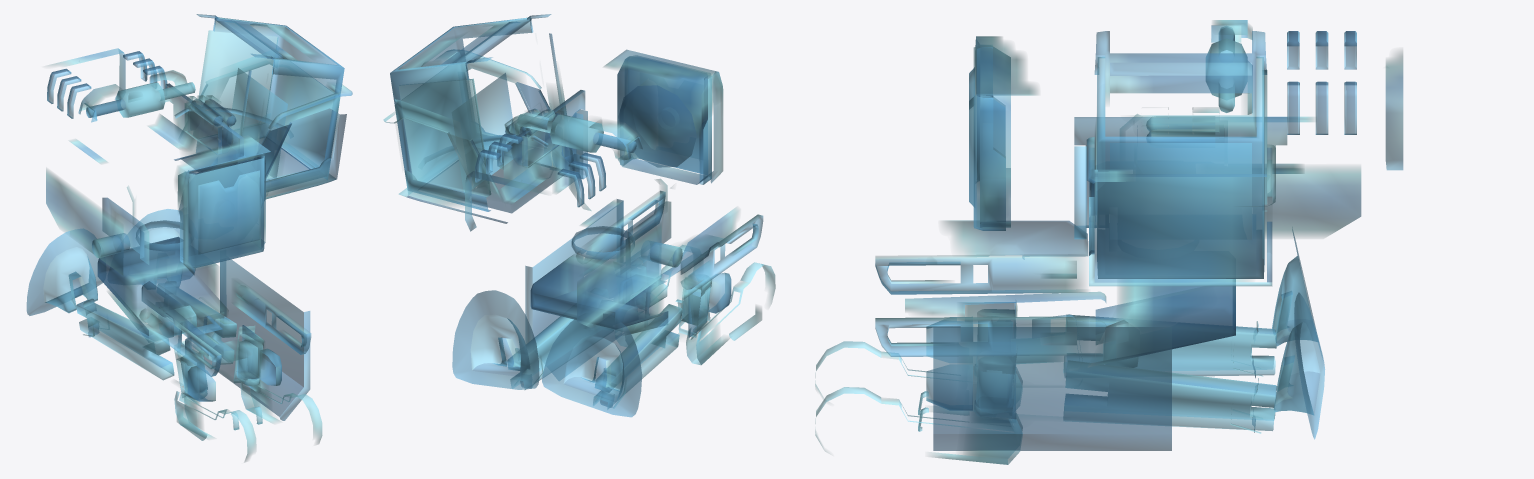
File: sentry_drop.dae
The picture shows the model from 3 angles, left to right: view 1: azimuth 30°, elevation 25°; view 2: azimuth 150°, elevation 25°; view 3: azimuth 270°, elevation 25°; orthographic projection. The views are drawn at different scales.
Parts seen in each view (by area): view 1: HP_Sentry_Turret_Low001; view 2: HP_Sentry_Turret_Low001; view 3: HP_Sentry_Turret_Low001.
Part boxes in pixels (x1,y1,x2,y2): HP_Sentry_Turret_Low001: (26, 14, 352, 462); HP_Sentry_Turret_Low001: (383, 14, 775, 417); HP_Sentry_Turret_Low001: (815, 20, 1403, 464).
Bounding box in the file's own units: 24.01 × 28.95 × 40.72.
